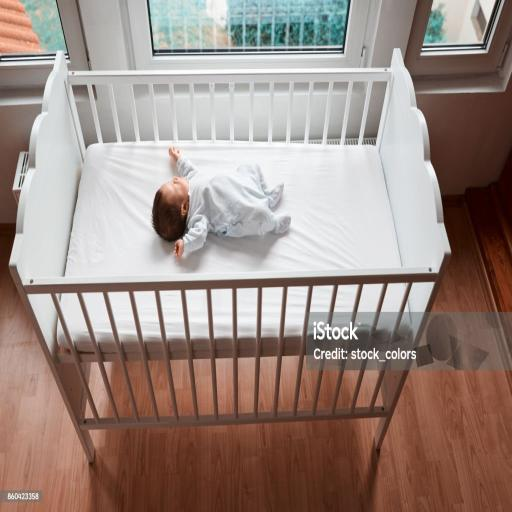baby: (152, 147, 290, 258)
crib: (10, 51, 449, 461)
